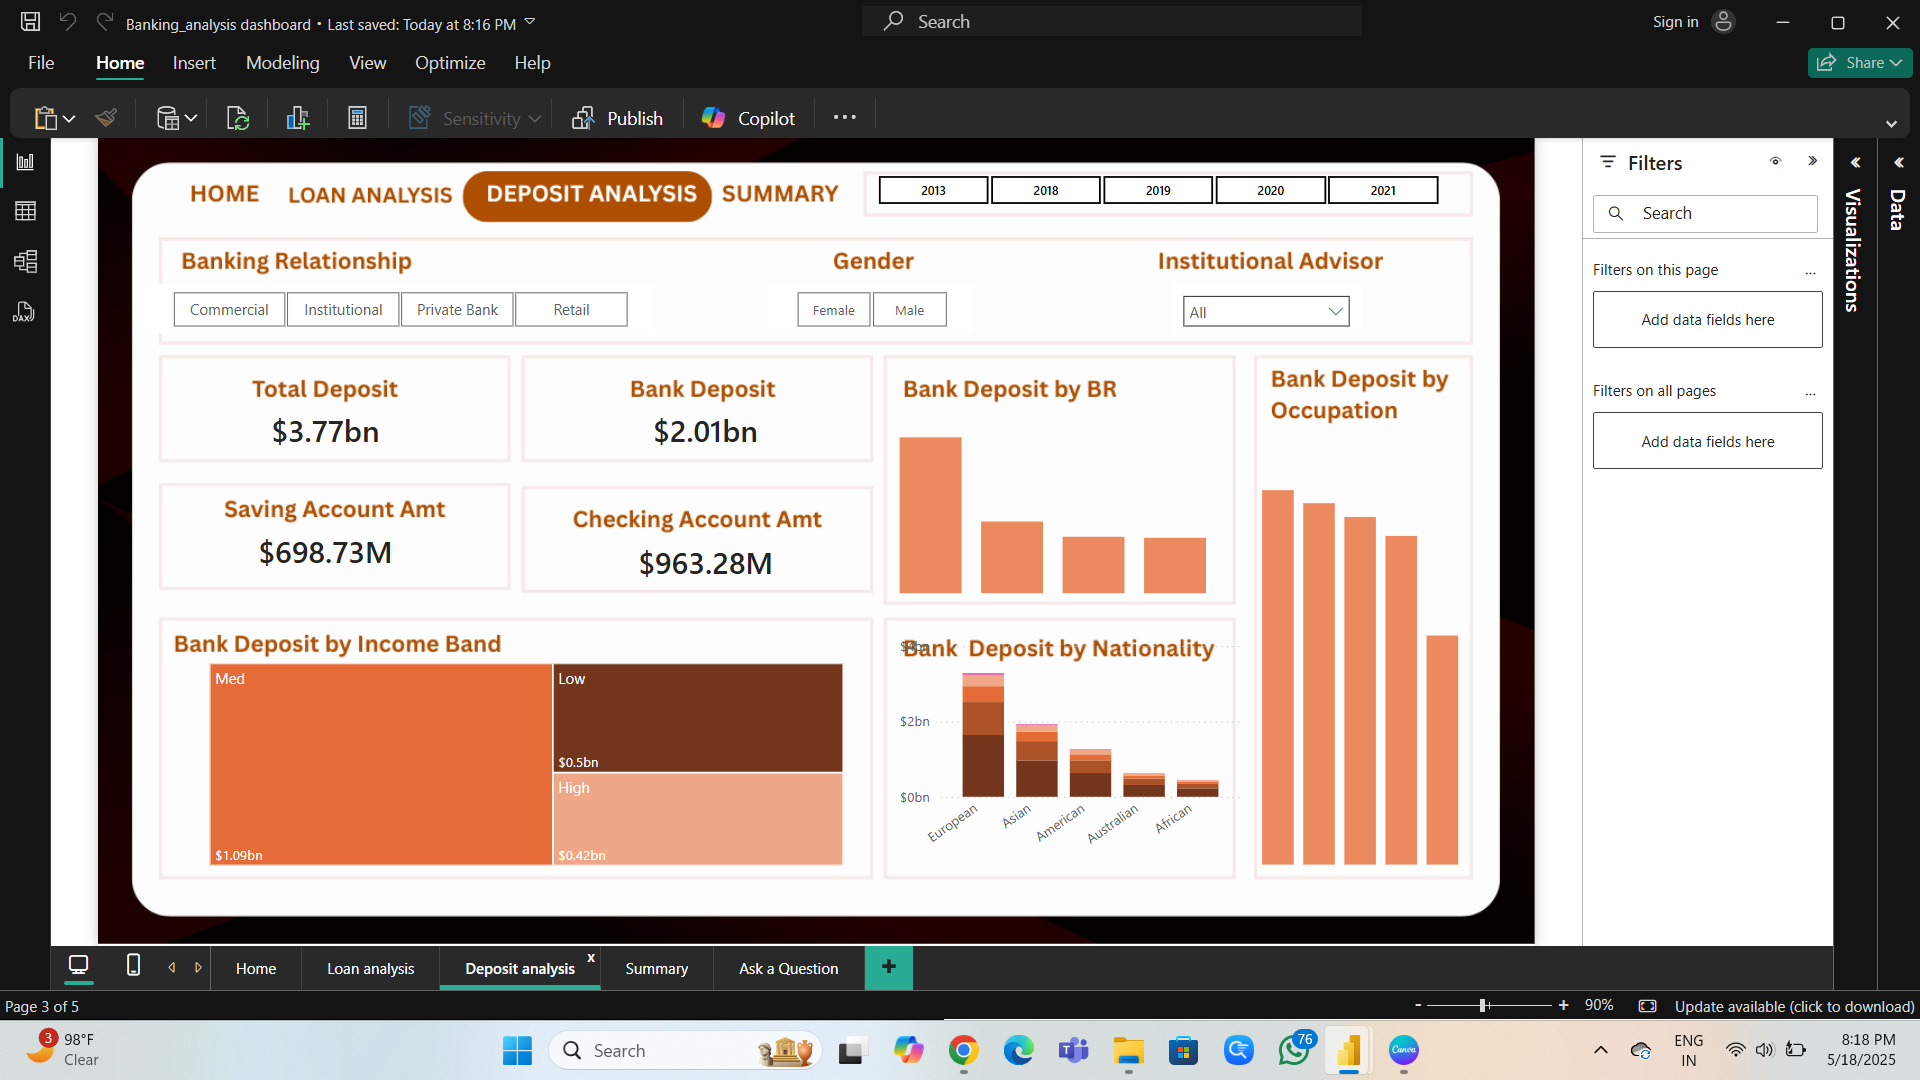

The page's visual inventory and layout, read from the dashboard file:
{"tool":"powerbi","page":{"name":"Deposit analysis","canvas":[1280,720],"ordinal":2},"visuals":[{"type":"slicer","fields":{"Values":["Query1.Year of Joining"]},"box":[668.6,27.1,548.6,37.1],"z":0},{"type":"actionButton","box":[65.7,27.1,100,40],"z":1000},{"type":"actionButton","box":[147.1,27.1,200,40],"z":2000},{"type":"actionButton","box":[552.9,24.3,115.7,40],"z":3000},{"type":"card","fields":{"Values":["Query1.Total deposit"]},"box":[147.1,241.4,111.4,40],"z":4000},{"type":"card","fields":{"Values":["Sum(Query1.Bank Deposits)"]},"box":[485.7,241.4,111.4,40],"z":5000},{"type":"card","fields":{"Values":["Sum(Query1.Saving Accounts)"]},"box":[121.4,350,162.9,40],"z":6000},{"type":"card","fields":{"Values":["Sum(Query1.Checking Accounts)"]},"box":[464.3,360,154.3,40],"z":7000},{"type":"columnChart","fields":{"Category":["Query1.BRId"],"Y":["Sum(Query1.Bank Deposits)"]},"box":[708.6,241.4,285.7,170],"z":8000},{"type":"columnChart","fields":{"Category":["Query1.Occupation"],"Y":["Sum(Query1.Bank Deposits)"]},"box":[1031.4,295.7,185.7,357.1],"z":9000},{"type":"slicer","fields":{"Values":["Query1.BRId"]},"box":[41.4,130,454.3,44.3],"z":10000},{"type":"slicer","fields":{"Values":["Query1.GenderId"]},"box":[597.1,130,182.9,44.3],"z":11000},{"type":"slicer","fields":{"Values":["Query1.IAId"]},"box":[955.7,130,168.6,44.3],"z":12000},{"type":"treemap","fields":{"Group":["Query1.Income Band"],"Values":["Sum(Query1.Bank Deposits)"]},"box":[94.3,462.9,574.3,190],"z":13000},{"type":"columnChart","fields":{"Category":["Query1.Nationality"],"Y":["Query1.Total deposit","Sum(Query1.Bank Deposits)","Sum(Query1.Checking Accounts)","Sum(Query1.Saving Accounts)","Sum(Query1.Foreign Currency Account)"]},"box":[708.6,438.6,314.3,214.3],"z":14000}]}

Visuals, with their boxes on the page's 1280x720 design canvas (x1, y1, x2, y2). These are canvas units, not pixel positions in the 1920x1080 screenshot, which may show the page scaled, cropped or inside an application window:
slicer - Query1.Year of Joining: bbox=(669, 27, 1217, 64)
actionButton: bbox=(66, 27, 166, 67)
actionButton: bbox=(147, 27, 347, 67)
actionButton: bbox=(553, 24, 669, 64)
card - Query1.Total deposit: bbox=(147, 241, 258, 281)
card - Sum(Query1.Bank Deposits): bbox=(486, 241, 597, 281)
card - Sum(Query1.Saving Accounts): bbox=(121, 350, 284, 390)
card - Sum(Query1.Checking Accounts): bbox=(464, 360, 619, 400)
columnChart - Query1.BRId x Sum(Query1.Bank Deposits): bbox=(709, 241, 994, 411)
columnChart - Query1.Occupation x Sum(Query1.Bank Deposits): bbox=(1031, 296, 1217, 653)
slicer - Query1.BRId: bbox=(41, 130, 496, 174)
slicer - Query1.GenderId: bbox=(597, 130, 780, 174)
slicer - Query1.IAId: bbox=(956, 130, 1124, 174)
treemap - Query1.Income Band x Sum(Query1.Bank Deposits): bbox=(94, 463, 669, 653)
columnChart - Query1.Nationality x Query1.Total deposit: bbox=(709, 439, 1023, 653)
